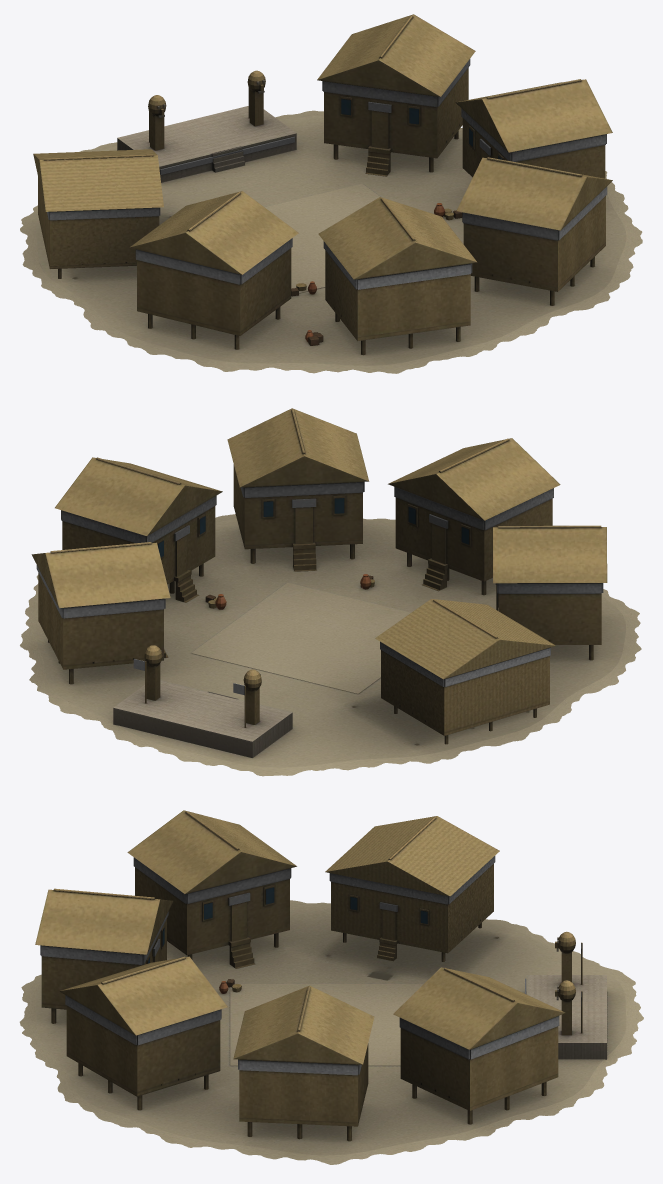
File: bronze-town-small-a-pacific-b34de8aa.glb
3 renders of one model, top to bottom at view 1: azimuth 30°, elevation 25°; view 2: azimuth 150°, elevation 25°; view 3: azimuth 270°, elevation 25°, orthographic.
Visible parts, largest first — view 1: LOD0; view 2: LOD0; view 3: LOD0.
Part boxes in pixels (bbox=[...]): LOD0: bbox=[20, 14, 642, 373]; LOD0: bbox=[20, 408, 641, 776]; LOD0: bbox=[19, 810, 643, 1164].
Size of what is drawn, in the model's own units: 3.99 by 0.802 by 3.95.
Materials: 3 (3 with a texture image).
